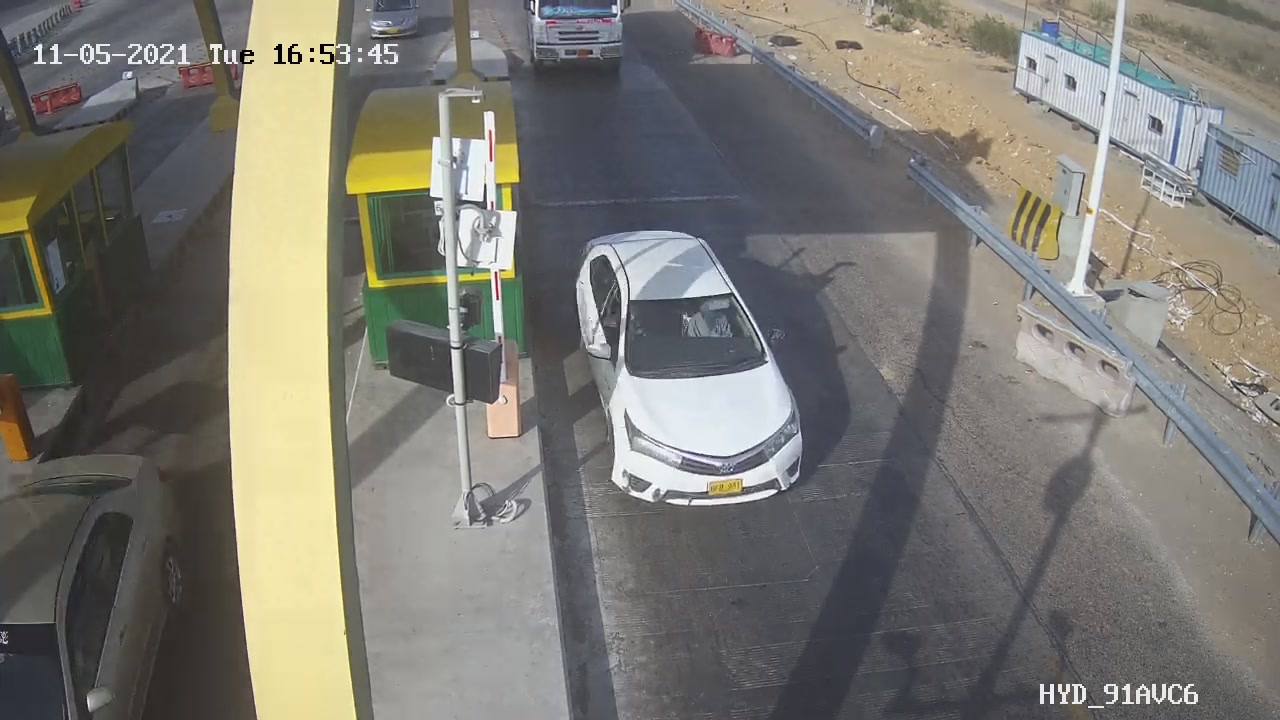F1: (547, 212, 835, 527)
